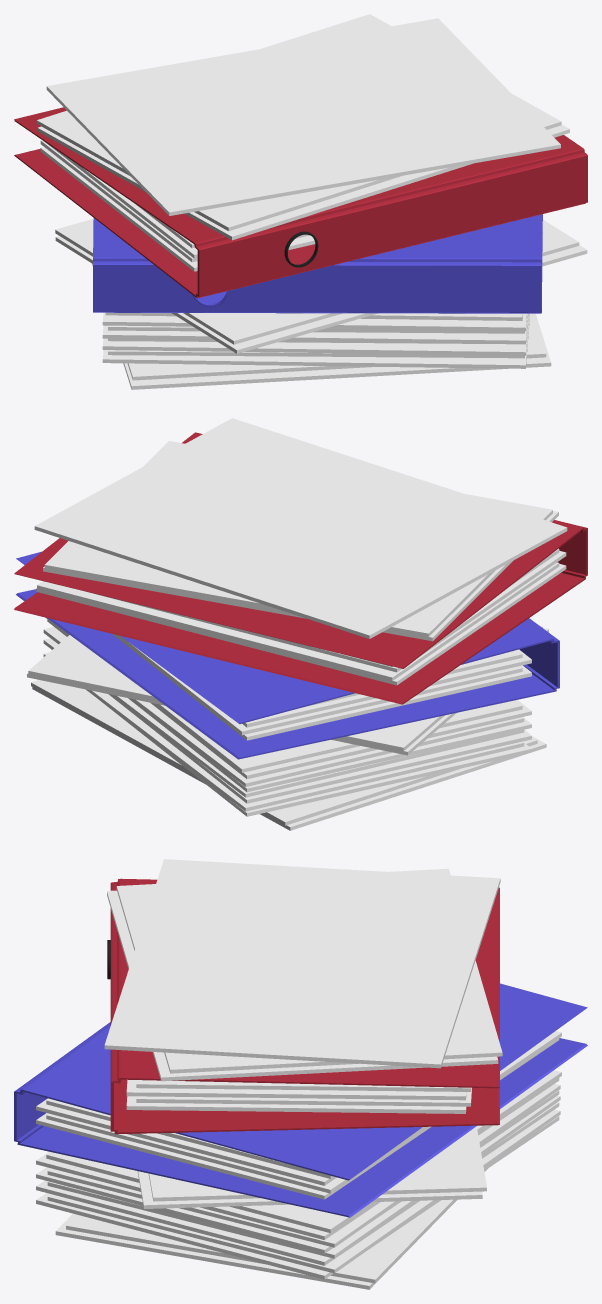
Rendered from documents_-1.fbx.
3 renders of one model, top to bottom at view 1: azimuth 30°, elevation 25°; view 2: azimuth 150°, elevation 25°; view 3: azimuth 270°, elevation 25°, orthographic. The views are drawn at different scales.
Visible parts, largest first — view 1: Cube.014, 平面, 平面.001, Cube.013, Cube.022, Cube.019, Cube.010, Cube.023, Cube.012, Cube.018, Cube.015, Cube.024 (+8 smaller); view 2: Cube.014, 平面, 平面.001, Cube.013, Cube.010, Cube.002, Cube.024, Cube.021, Cube.017, Cube.016, Cube.022, Cube.003 (+12 smaller); view 3: Cube.014, 平面.001, 平面, Cube.013, Cube.010, Cube.024, Cube.021, Cube.012, Cube.016, Cube.017, Cube.022, Cube.001 (+13 smaller).
Boxes of the visible parts, <box> form: Cube.014: <box>46,18,560,215</box>; 平面: <box>14,107,587,298</box>; 平面.001: <box>93,214,542,313</box>; Cube.013: <box>36,14,561,231</box>; Cube.022: <box>102,313,528,355</box>; Cube.019: <box>102,313,529,368</box>; Cube.010: <box>55,218,579,344</box>; Cube.023: <box>92,263,551,389</box>; Cube.012: <box>37,124,569,240</box>; Cube.018: <box>102,313,528,344</box>; Cube.015: <box>102,312,527,331</box>; Cube.024: <box>127,313,546,380</box>; Cube.014: <box>34,418,567,638</box>; 平面: <box>14,432,587,704</box>; 平面.001: <box>16,551,559,759</box>; Cube.013: <box>44,441,552,637</box>; Cube.010: <box>28,626,542,751</box>; Cube.002: <box>37,562,559,680</box>; Cube.024: <box>31,680,537,825</box>; Cube.021: <box>43,652,524,811</box>; Cube.017: <box>45,617,522,772</box>; Cube.016: <box>43,627,524,786</box>; Cube.022: <box>108,694,531,803</box>; Cube.003: <box>36,564,566,685</box>; Cube.014: <box>104,859,500,1068</box>; 平面.001: <box>14,983,587,1217</box>; 平面: <box>107,878,499,1134</box>; Cube.013: <box>116,868,502,1073</box>; Cube.010: <box>148,1126,486,1201</box>; Cube.024: <box>66,1170,485,1283</box>; Cube.021: <box>47,1109,560,1273</box>; Cube.012: <box>107,890,498,1081</box>; Cube.016: <box>47,1084,560,1247</box>; Cube.017: <box>46,1070,561,1232</box>; Cube.022: <box>36,1102,559,1265</box>; Cube.001: <box>126,1079,466,1100</box>.
Size of the model in its own units: 378 by 143 by 360.
